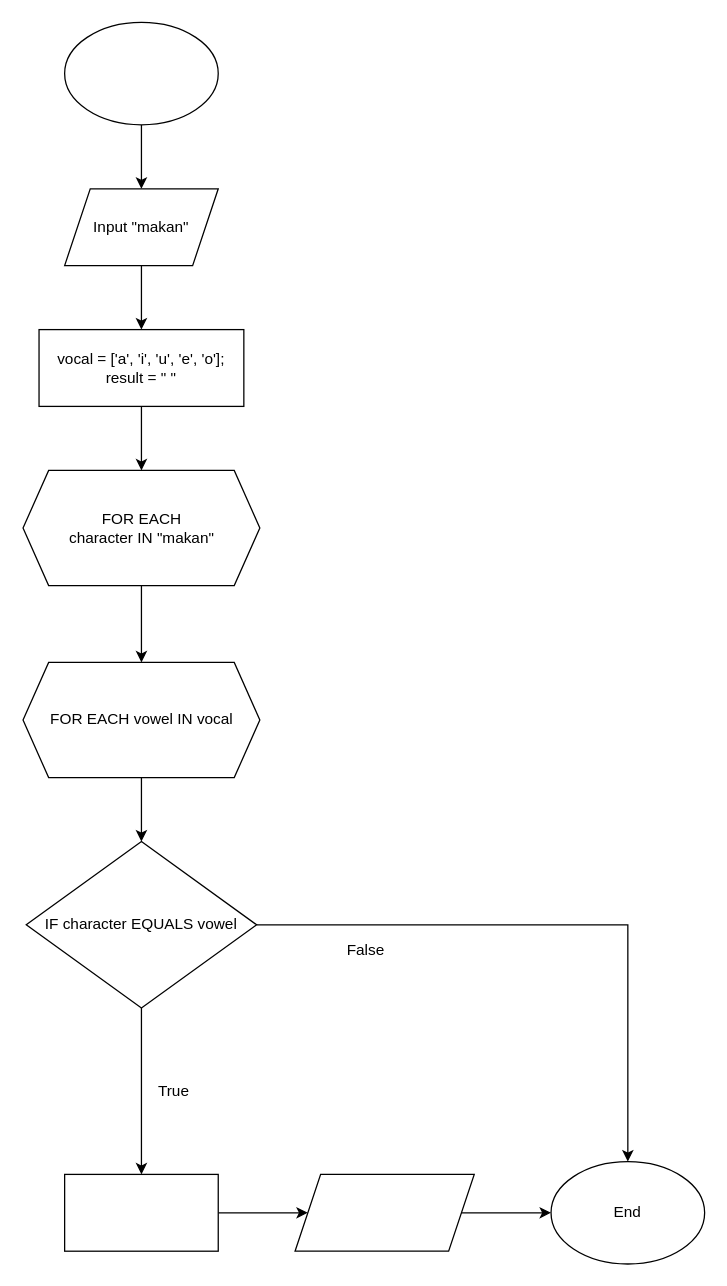
This 727x1286 diagram has some shape labels left out. The shapes that lost their labels are listed below. From the top down, each one's centre as x and y in pixels, then its label:
At point 140,73: "Start".
At point 140,1212: "result = result + character".
At point 384,1212: "Output length of result".
